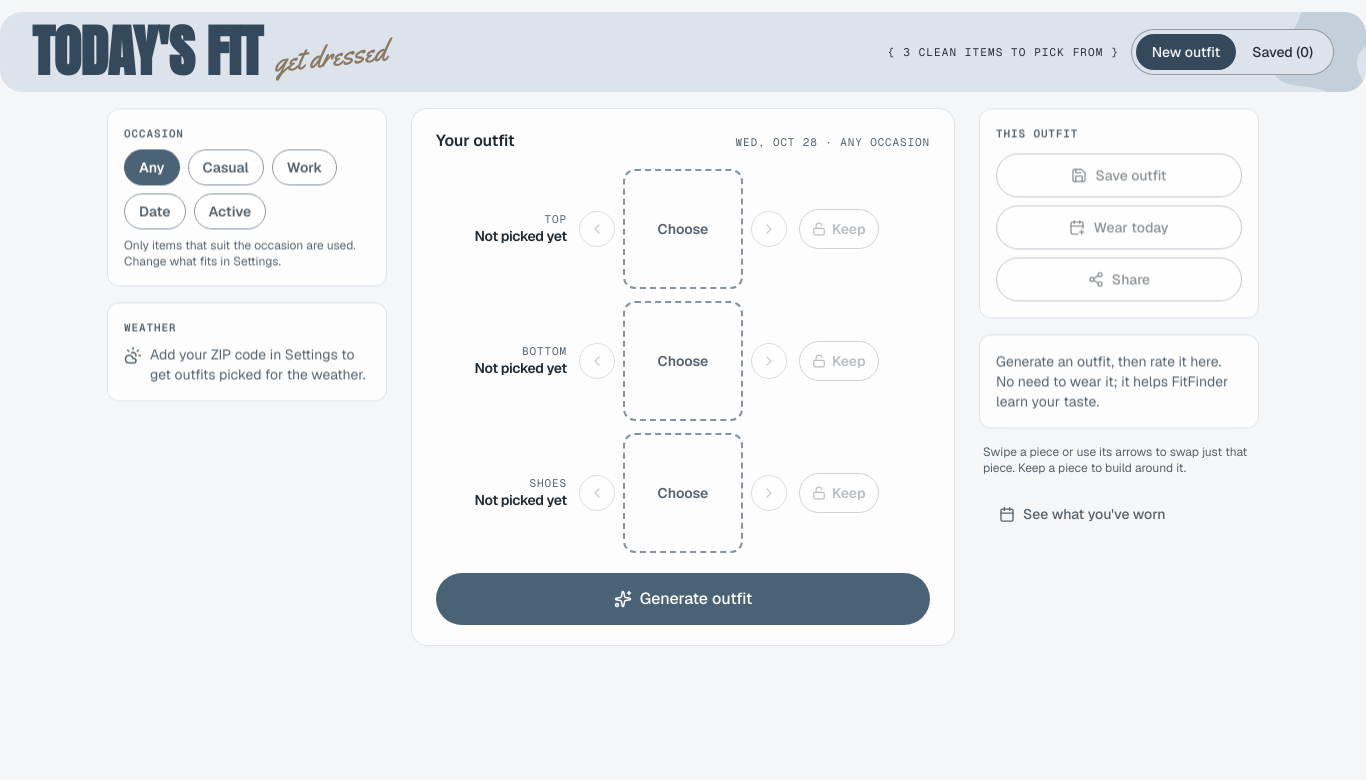
it: OutfitGenerator › asks for a rating beside the outfit once there is one to rate
The image size is (1366, 780).
Expected: the text "Generate an outfit, then rate it here" is shown, [996,352,1228,410]
Expected: the element "Rate this outfit" is not shown
Click the button "Generate outfit": [683, 599] box [436,573,930,625]
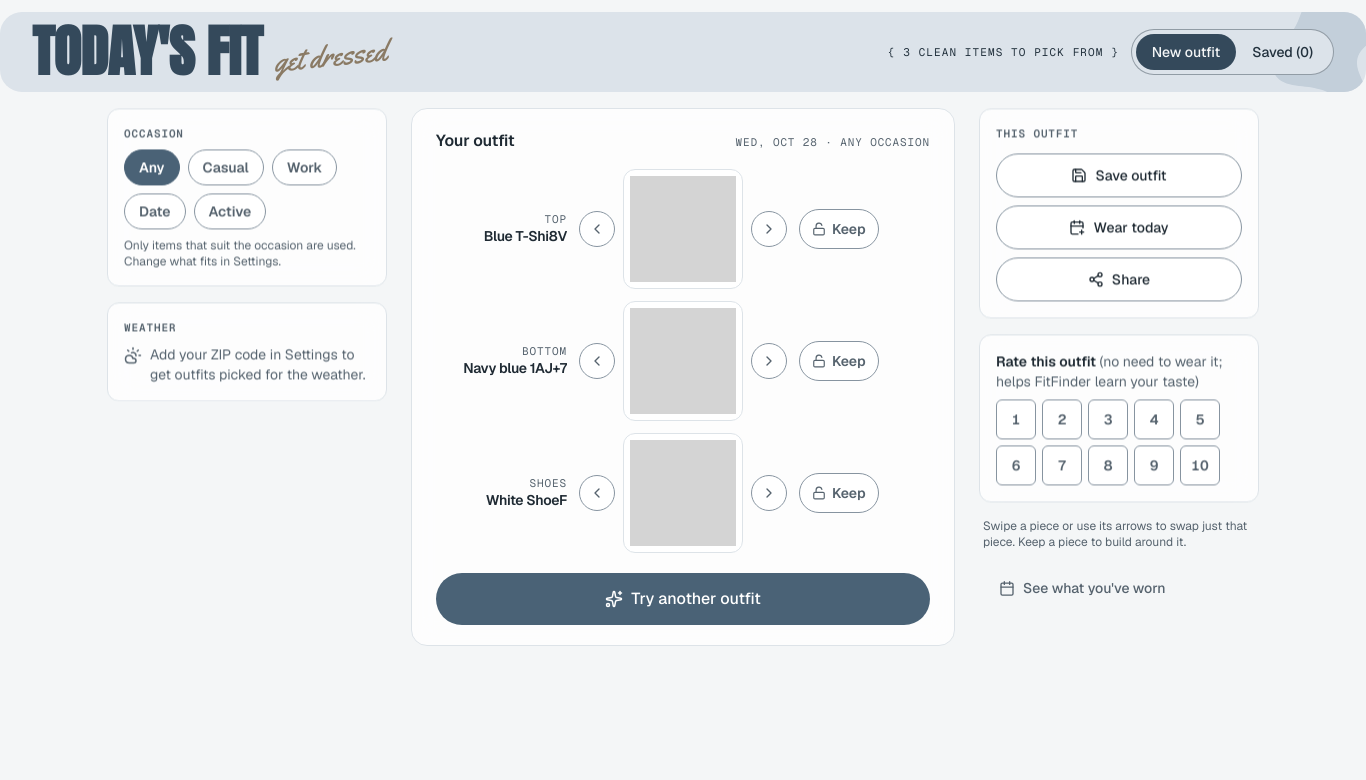
Result: the element "Rate this outfit" is shown at [996,352,1242,486]
